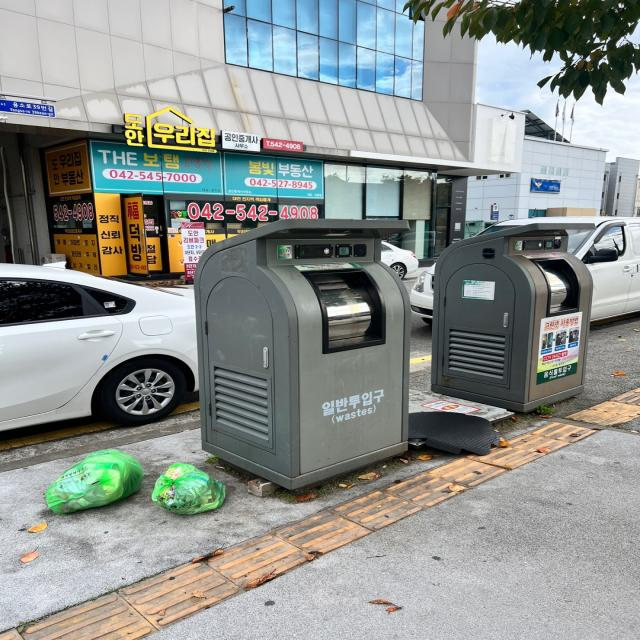CleanNet: (194, 219, 412, 472), (433, 227, 590, 402)
General Waste: (35, 451, 142, 515), (154, 463, 233, 518)
Large Waste Items: (405, 407, 502, 456)
